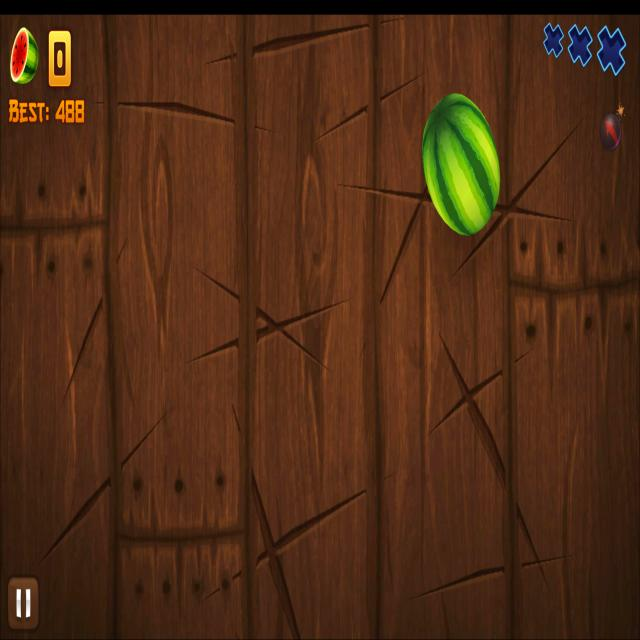fruit: (420, 90, 502, 238)
